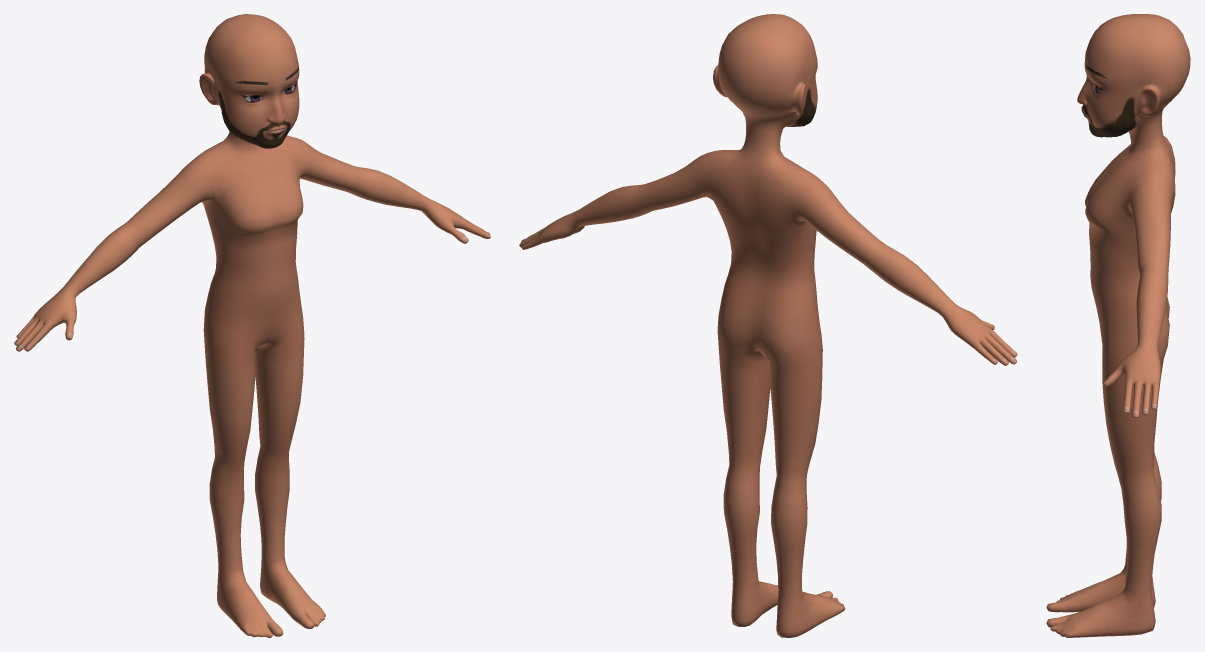
Rendered from frame_0019.glb.
3 views of the same model, side by side, from view 1: azimuth 30°, elevation 25°; view 2: azimuth 150°, elevation 25°; view 3: azimuth 270°, elevation 25° (orthographic). The views are drawn at different scales.
Parts seen in each view (by area): view 1: frame_0019_head_geo; view 2: frame_0019_head_geo; view 3: frame_0019_head_geo.
Part boxes in pixels (bbox=[...]): frame_0019_head_geo: bbox=[14, 14, 490, 637]; frame_0019_head_geo: bbox=[519, 14, 1017, 637]; frame_0019_head_geo: bbox=[1046, 14, 1190, 637].
Bounding box in the file's own units: 1.28 × 1.5 × 0.3253.
Materials: 3 (3 with a texture image).
